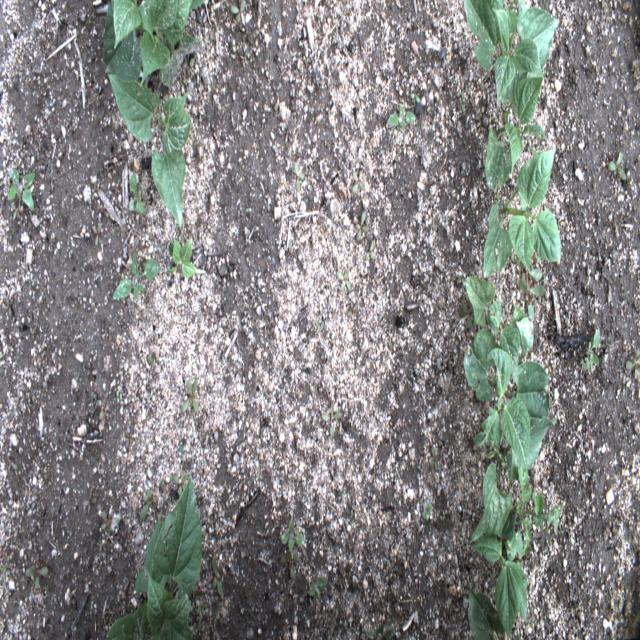crop: (104, 473, 202, 638), (108, 73, 190, 232), (468, 416, 558, 544), (464, 346, 549, 474), (463, 0, 560, 105), (483, 148, 561, 278), (104, 0, 206, 89), (461, 276, 534, 378), (471, 508, 527, 640), (485, 71, 546, 192), (467, 584, 506, 639)
weed: (513, 466, 563, 559), (113, 248, 161, 301), (163, 237, 200, 278), (7, 169, 36, 212), (519, 278, 544, 322), (386, 105, 416, 133), (583, 327, 600, 372), (280, 520, 303, 552), (129, 172, 145, 217), (181, 378, 199, 414), (25, 564, 48, 590), (607, 150, 626, 179), (280, 551, 298, 578), (625, 348, 639, 379), (356, 211, 369, 243), (291, 162, 305, 191), (140, 489, 152, 521), (172, 472, 188, 496), (335, 270, 352, 292), (352, 169, 366, 195), (307, 578, 327, 596), (100, 510, 112, 536), (421, 501, 432, 520)
